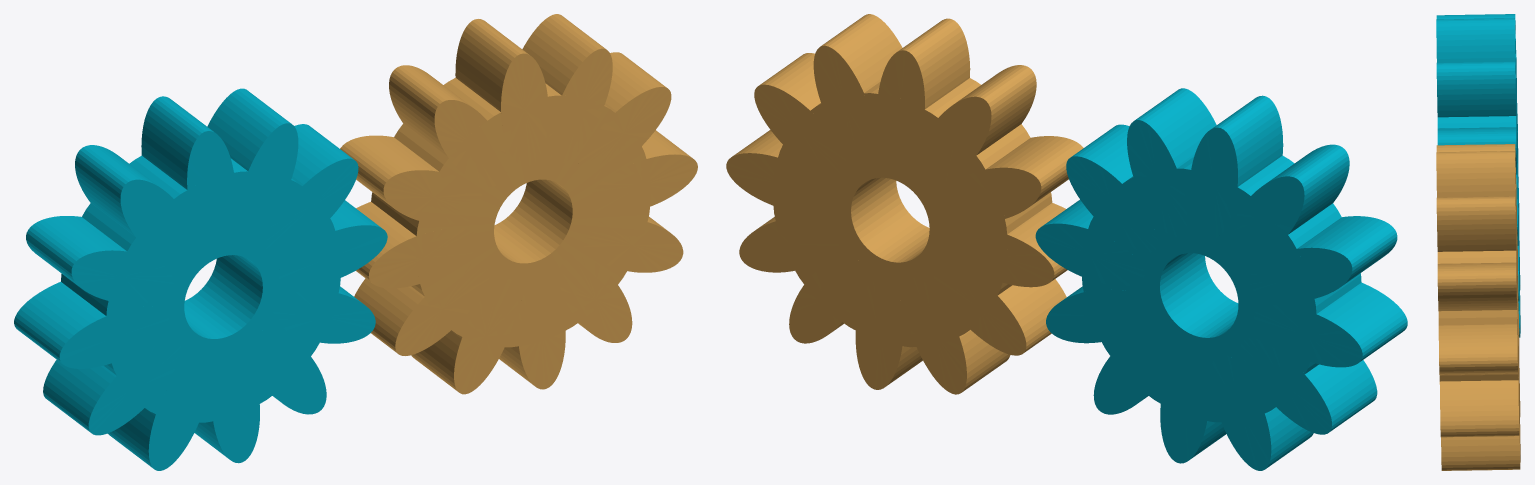
Rendered from engranaje2.glb.
The picture shows the model from 3 angles, left to right: view 1: azimuth 30°, elevation 25°; view 2: azimuth 150°, elevation 25°; view 3: azimuth 270°, elevation 25°; orthographic projection. The views are drawn at different scales.
Parts seen in each view (by area): view 1: Mesh_Mesh_head_geo.001_lambert2SG.001; view 2: Mesh_Mesh_head_geo.001_lambert2SG.001; view 3: Mesh_Mesh_head_geo.001_lambert2SG.001.
Boxes of the visible parts, left/top/right/bottom form: Mesh_Mesh_head_geo.001_lambert2SG.001: left=14, top=14, right=697, bottom=470; Mesh_Mesh_head_geo.001_lambert2SG.001: left=726, top=14, right=1407, bottom=470; Mesh_Mesh_head_geo.001_lambert2SG.001: left=1436, top=14, right=1520, bottom=470.
Bounding box in the file's own units: 0.0406 × 0.021 × 0.00537.
